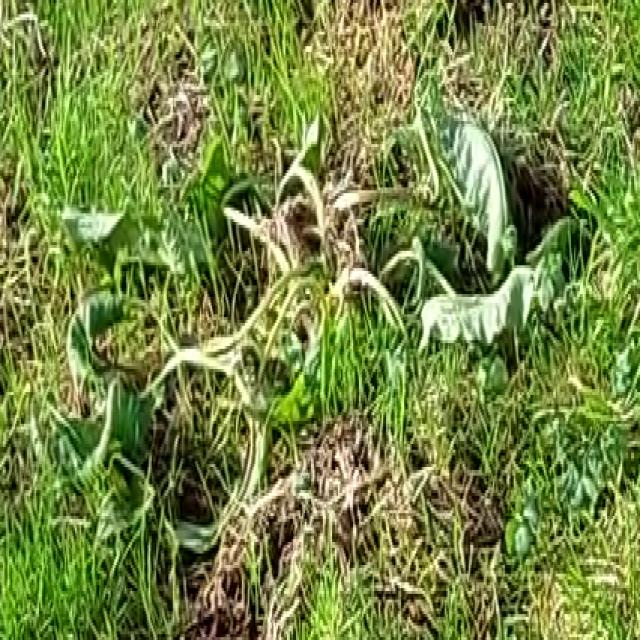organic waste: (26, 66, 570, 568)
